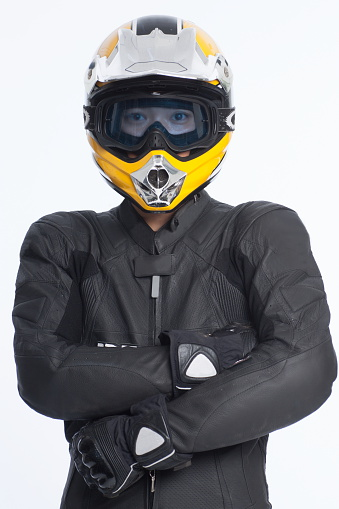em pe: (7, 30, 322, 509)
